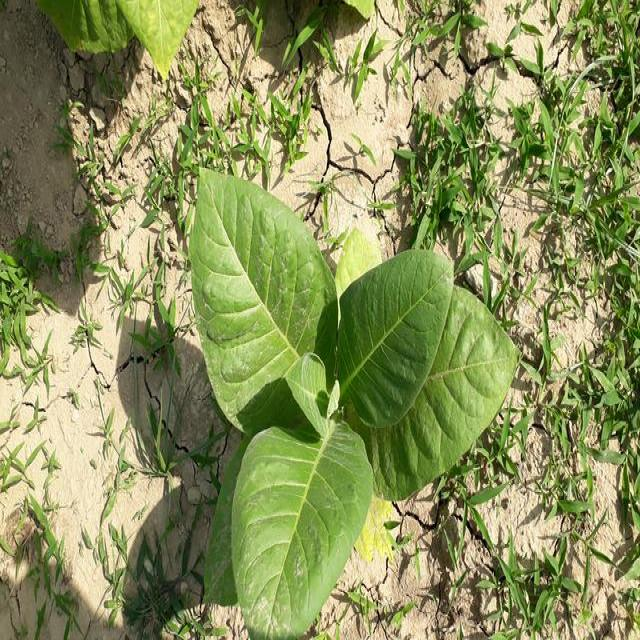crop: (192, 153, 520, 640)
